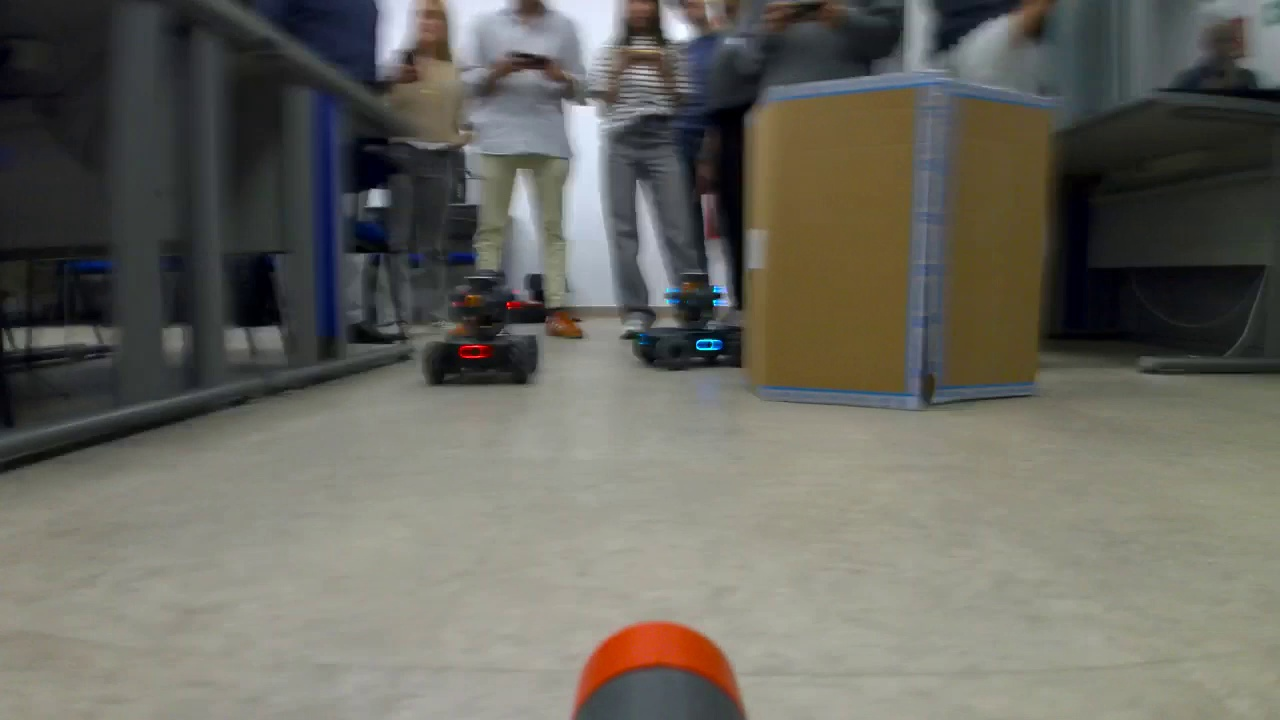robot: (425, 266, 538, 382), (636, 267, 742, 373)
